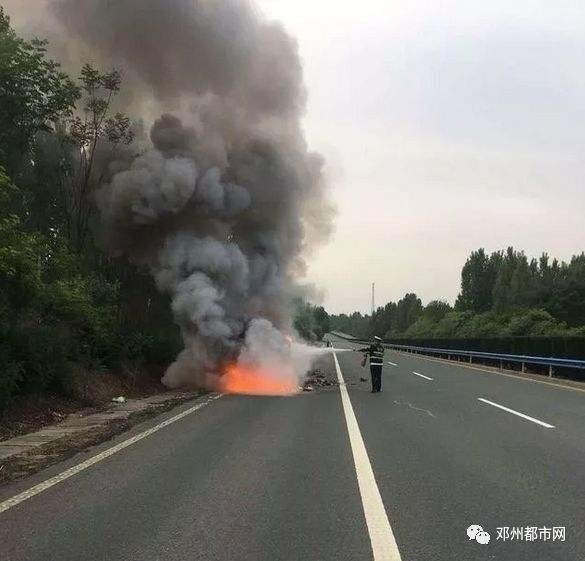fire: (214, 349, 303, 395)
